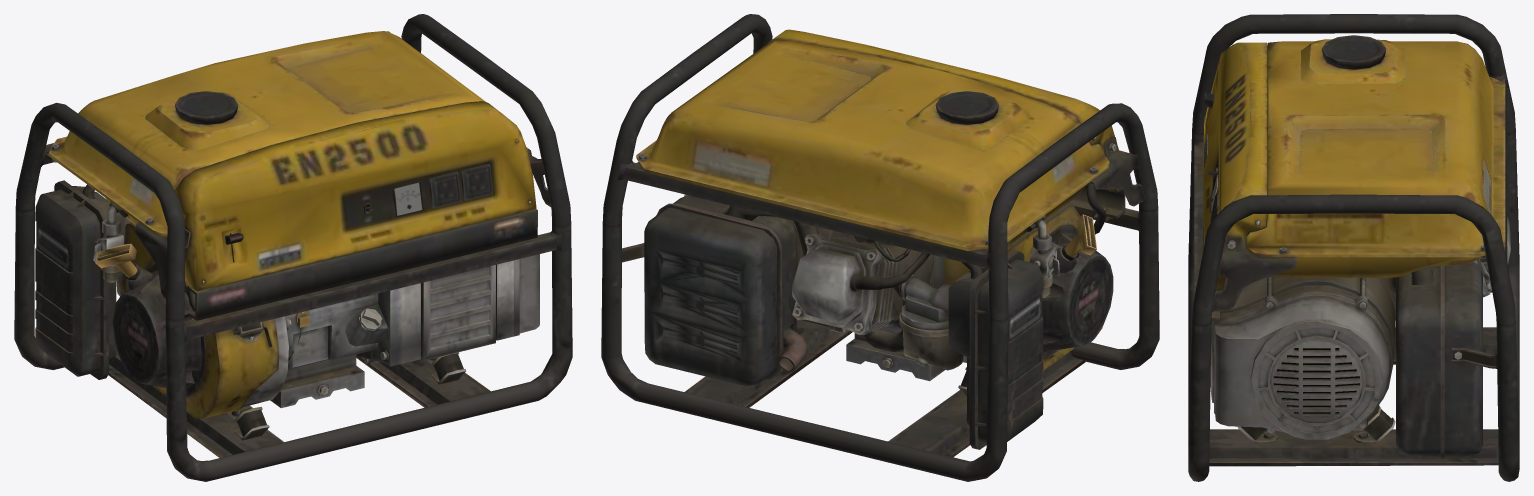
Rendered from generator.glb.
3 renders of one model, left to right at view 1: azimuth 30°, elevation 25°; view 2: azimuth 150°, elevation 25°; view 3: azimuth 270°, elevation 25°, orthographic.
Parts seen in each view (by area): view 1: portable_generator; view 2: portable_generator; view 3: portable_generator.
Boxes of the visible parts, x1,y1,x2,y2 form: portable_generator: (14,14,572,481); portable_generator: (601,14,1159,481); portable_generator: (1188,14,1519,481).
Size of the model in its own units: 0.8169 by 0.5752 by 0.564.
2 materials, 2 textured.
